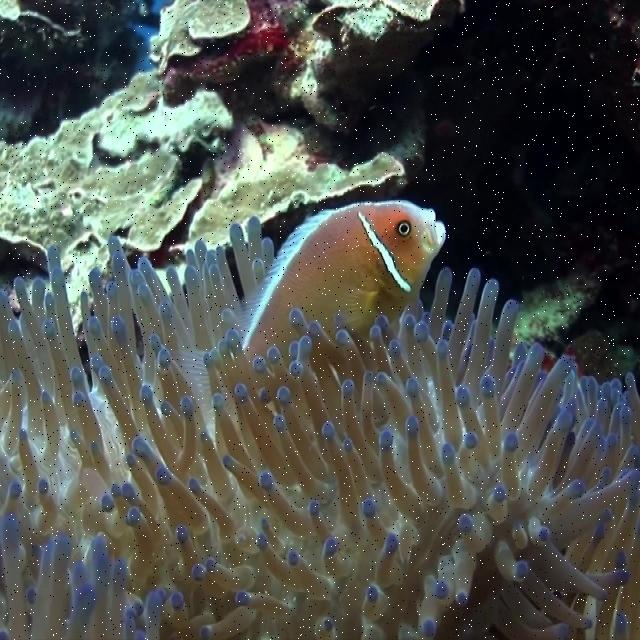fish: (241, 198, 447, 360)
reefs: (0, 213, 639, 637), (0, 0, 448, 302)
